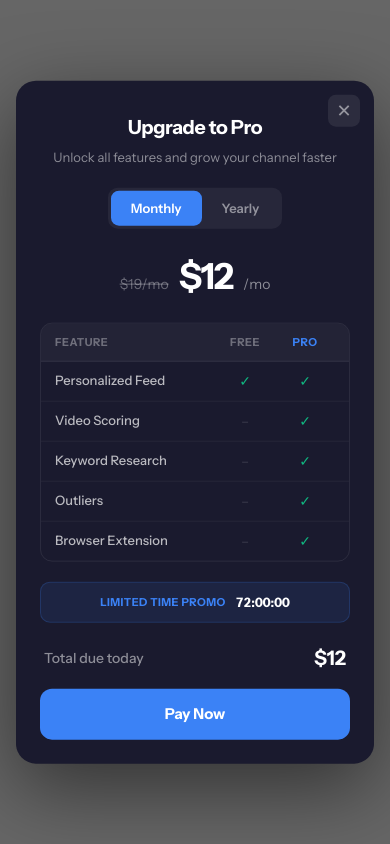
Test: UpgradePopupModal › Monthly / Yearly toggle › switches to Yearly view with $115/yr pricing
Click the button "Yearly": (240, 208) 202,190 -> 279,226
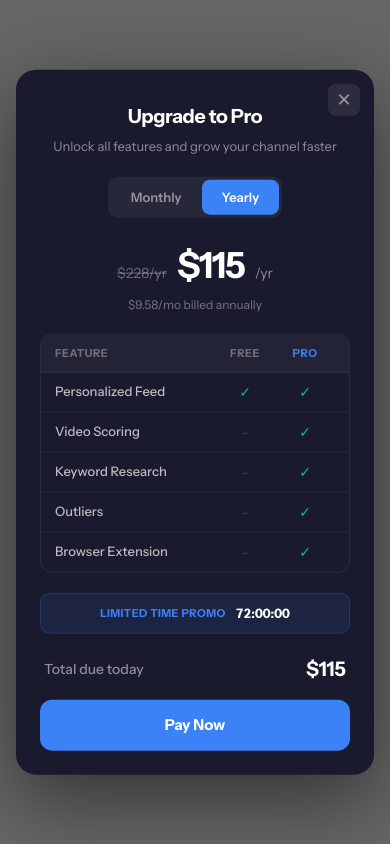
Check: the text "$228/yr" is shown, box 117,263 -> 167,284
